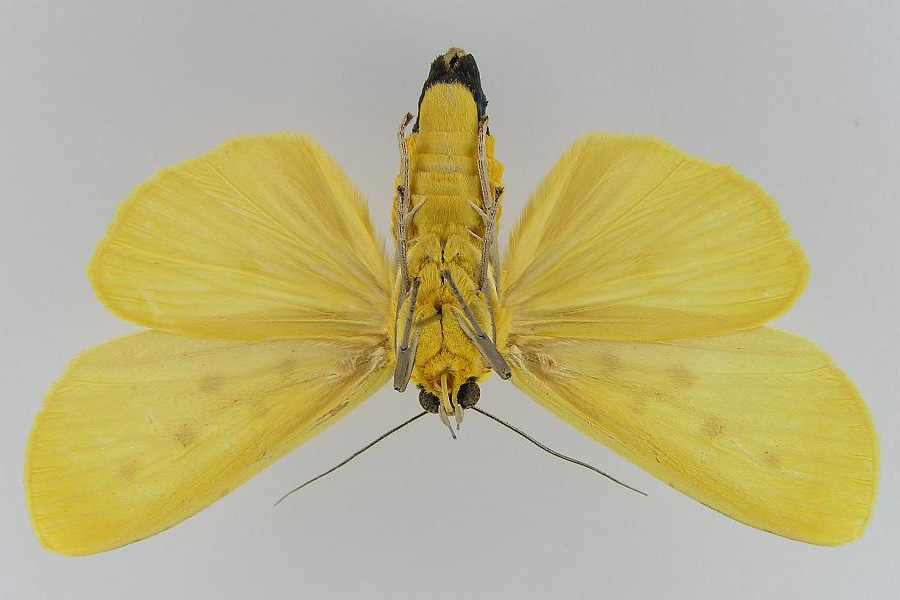Agape chloropyga: (21, 45, 879, 560)
moth: (23, 47, 881, 562)
